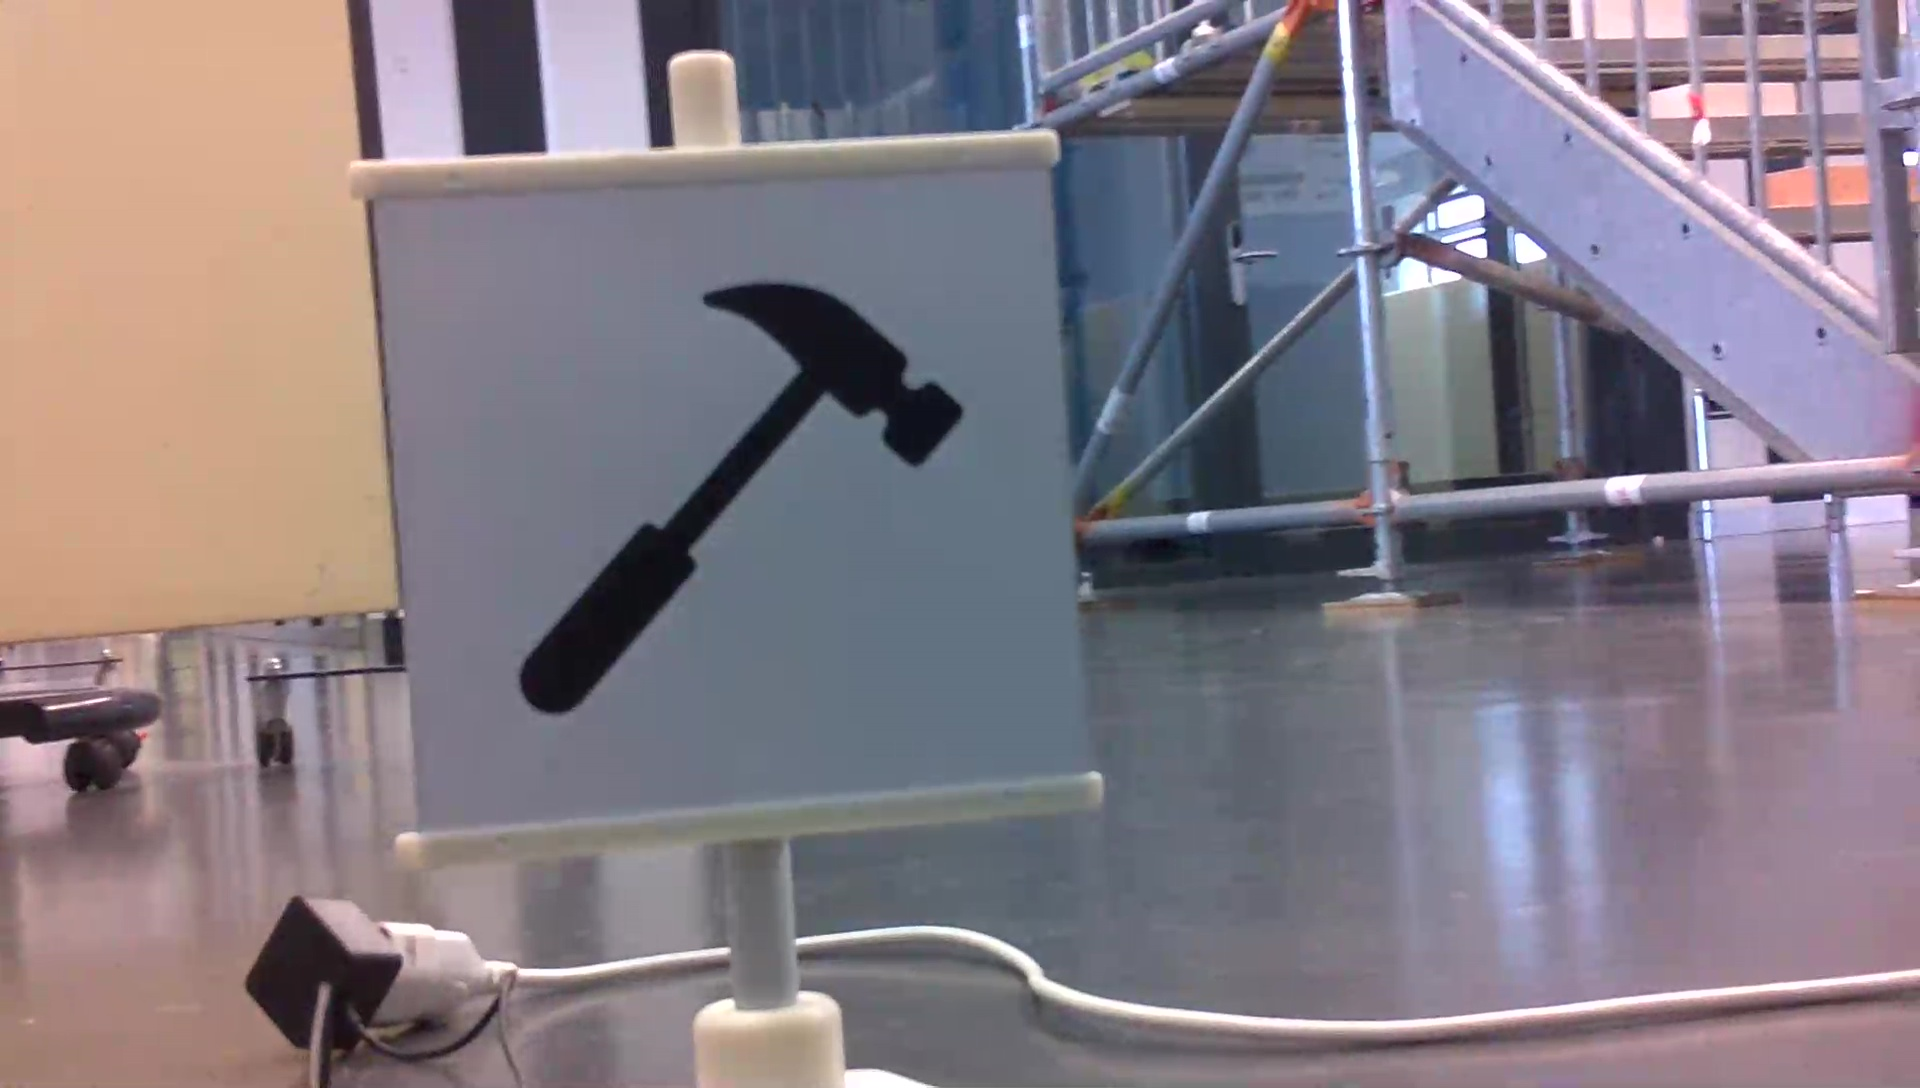hammer: (505, 274, 967, 723)
